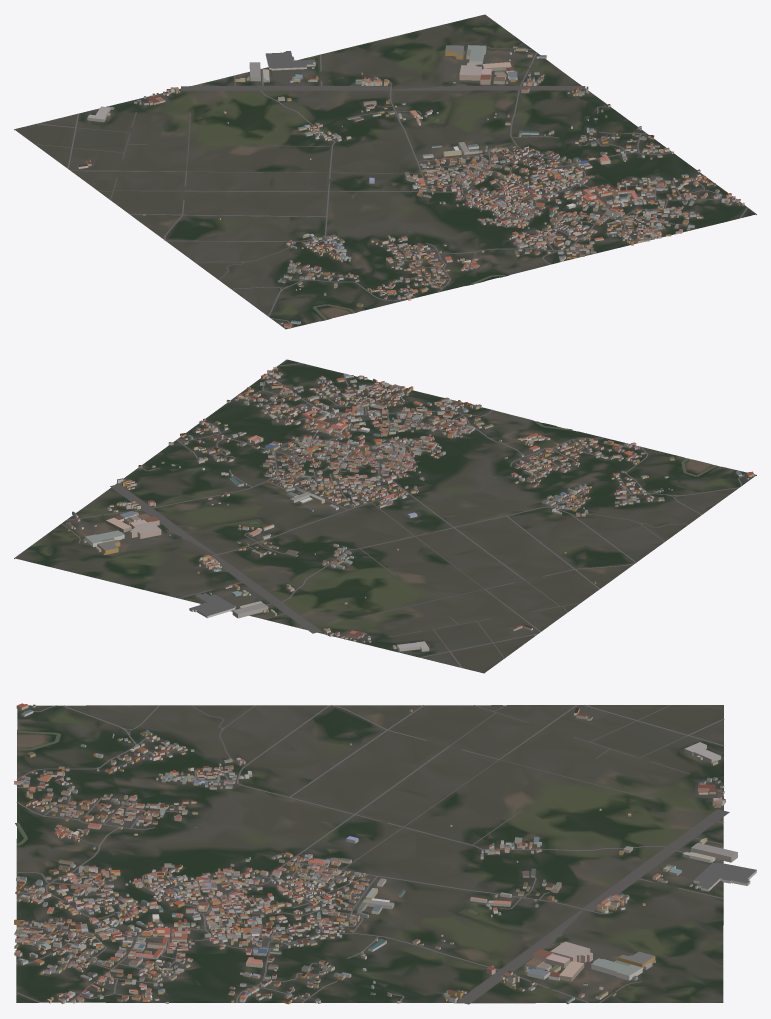
The picture shows the model from 3 angles, top to bottom: view 1: azimuth 30°, elevation 25°; view 2: azimuth 150°, elevation 25°; view 3: azimuth 270°, elevation 25°; orthographic projection. The views are drawn at different scales.
Parts seen in each view (by area): view 1: ground, buildings, roads; view 2: ground, buildings, roads; view 3: ground, buildings, roads.
Part boxes in pixels (x1,y1,x2,y2): ground: (14, 14, 756, 329); buildings: (78, 45, 744, 328); roads: (34, 46, 748, 325); ground: (14, 359, 756, 673); buildings: (65, 366, 754, 651); roads: (61, 363, 744, 667); ground: (16, 705, 723, 1003); buildings: (14, 703, 756, 1004); roads: (16, 705, 729, 1004).
Bounding box in the file's own units: 1408 × 21.6 × 1473.
